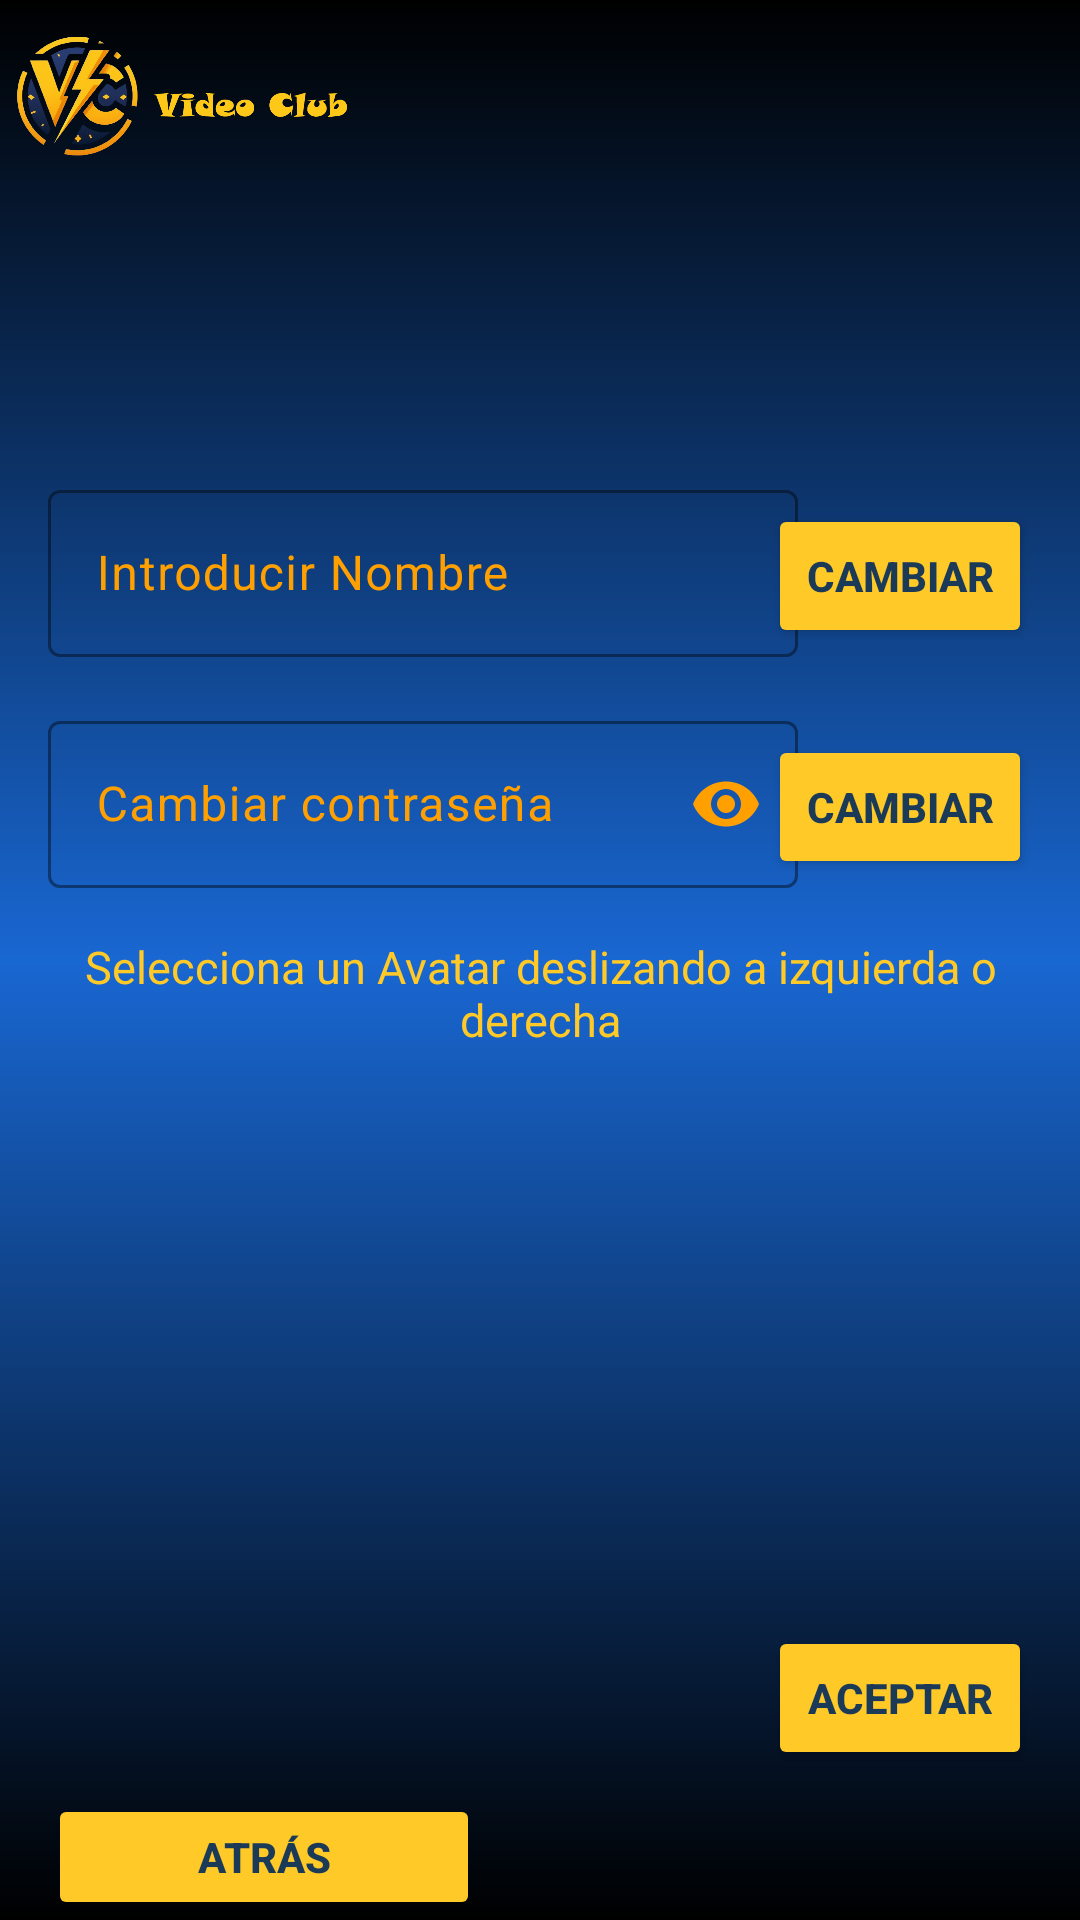

Icon bounding boxes for this 1080px×1920px phone screenshot, format (x1=x1, y1=y1, x2=x2, y2=y2):
marca: (x1=0, y1=0, x2=360, y2=156)
